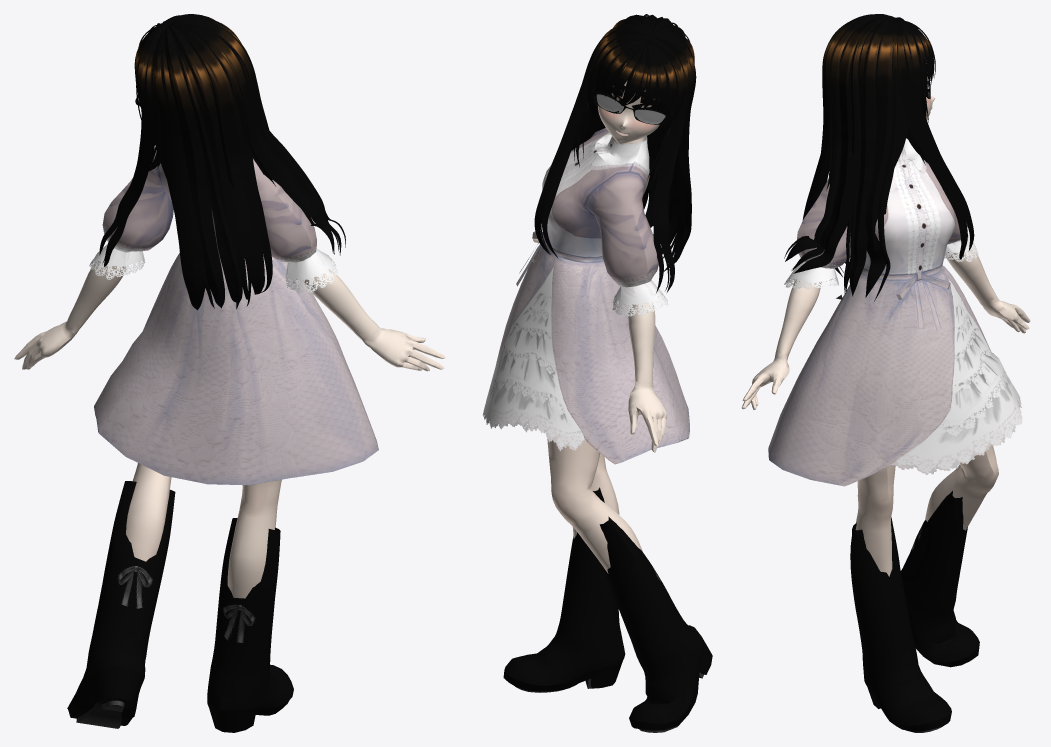
3 renders of one model, left to right at view 1: azimuth 30°, elevation 25°; view 2: azimuth 150°, elevation 25°; view 3: azimuth 270°, elevation 25°, orthographic. The views are drawn at different scales.
Parts seen in each view (by area): view 1: Body__merged__baked_12.001, Body__merged__baked_18.001, Body__merged__baked_17.001, Body__merged__baked_11.001, Body__merged__baked_13.001; view 2: Body__merged__baked_12.001, Body__merged__baked_17.001, Body__merged__baked_18.001, Body__merged__baked_11.001, Face__merged__baked_5.001, Body__merged__baked_16.001; view 3: Body__merged__baked_12.001, Body__merged__baked_18.001, Body__merged__baked_17.001, Body__merged__baked_11.001.
Boxes of the visible parts, x1,y1,x2,y2 form: Body__merged__baked_12.001: (89,148,378,485); Body__merged__baked_18.001: (99,14,345,310); Body__merged__baked_17.001: (67,481,293,732); Body__merged__baked_11.001: (14,261,445,598); Body__merged__baked_13.001: (76,700,260,728); Body__merged__baked_12.001: (483,127,689,464); Body__merged__baked_17.001: (503,487,712,730); Body__merged__baked_18.001: (534,14,696,293); Body__merged__baked_11.001: (533,137,666,573); Face__merged__baked_5.001: (597,81,659,143); Body__merged__baked_16.001: (596,94,665,123); Body__merged__baked_12.001: (768,138,1022,486); Body__merged__baked_18.001: (784,14,974,301); Body__merged__baked_17.001: (850,491,979,731); Body__merged__baked_11.001: (741,249,1030,576).
Size of the model in its own units: 0.6387 by 1.6 by 0.643.
Materials: 16 (16 with a texture image).
